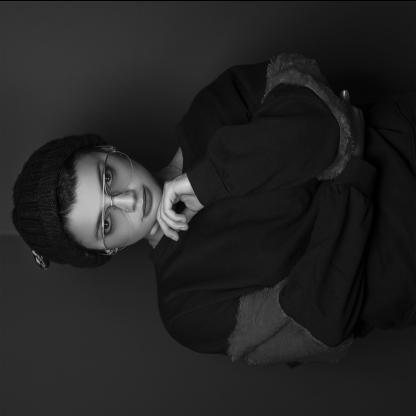Eye: (102, 164, 116, 191), (101, 210, 115, 236)
Mouth: (141, 183, 152, 219)
Nose: (112, 189, 136, 212)
